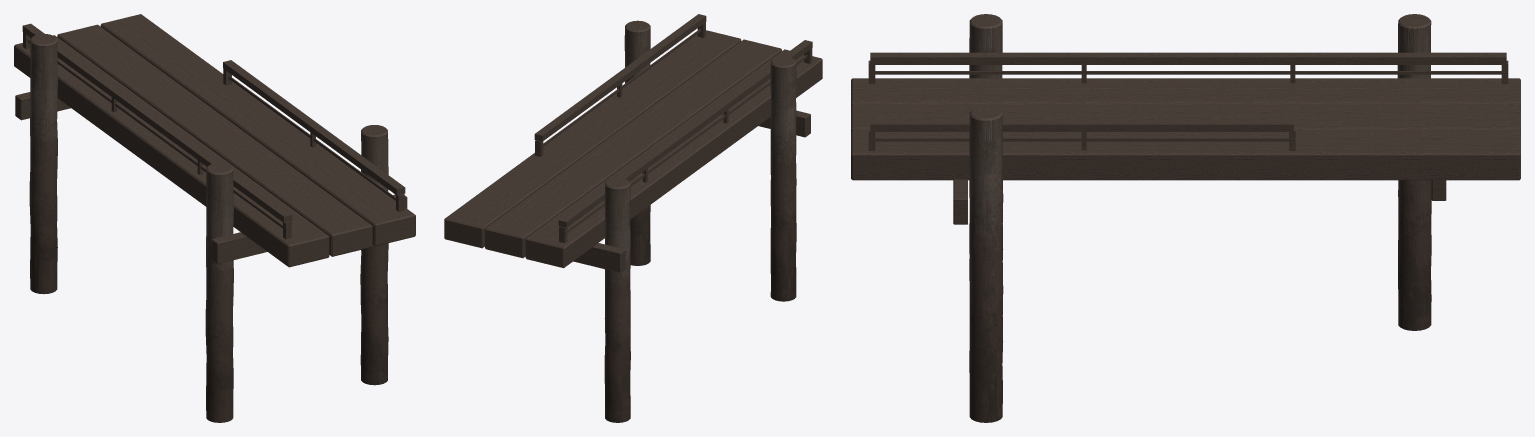
The model's file is japanese_walkway_part02.FBX.
The picture shows the model from 3 angles, left to right: view 1: azimuth 30°, elevation 25°; view 2: azimuth 150°, elevation 25°; view 3: azimuth 270°, elevation 25°; orthographic projection. The views are drawn at different scales.
Visible parts, largest first — view 1: japanese_walkway_part02; view 2: japanese_walkway_part02; view 3: japanese_walkway_part02.
Boxes of the visible parts, bbox=[...] form: japanese_walkway_part02: bbox=[14, 14, 415, 422]; japanese_walkway_part02: bbox=[444, 14, 822, 422]; japanese_walkway_part02: bbox=[851, 14, 1520, 422].
Size of the model in its own units: 160 by 200 by 400.
